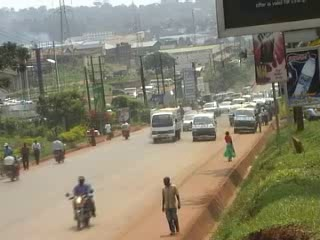Car: (181, 111, 199, 132), (202, 99, 223, 115), (219, 101, 233, 112)
Motorcycle: (63, 181, 97, 230), (4, 154, 23, 184), (52, 141, 68, 164), (119, 120, 131, 140)
